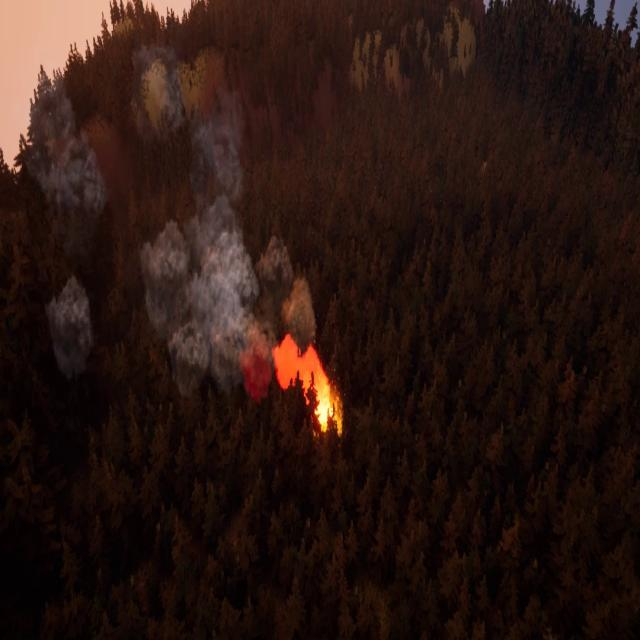fire: (274, 332, 342, 435)
smoke: (26, 39, 315, 402)
